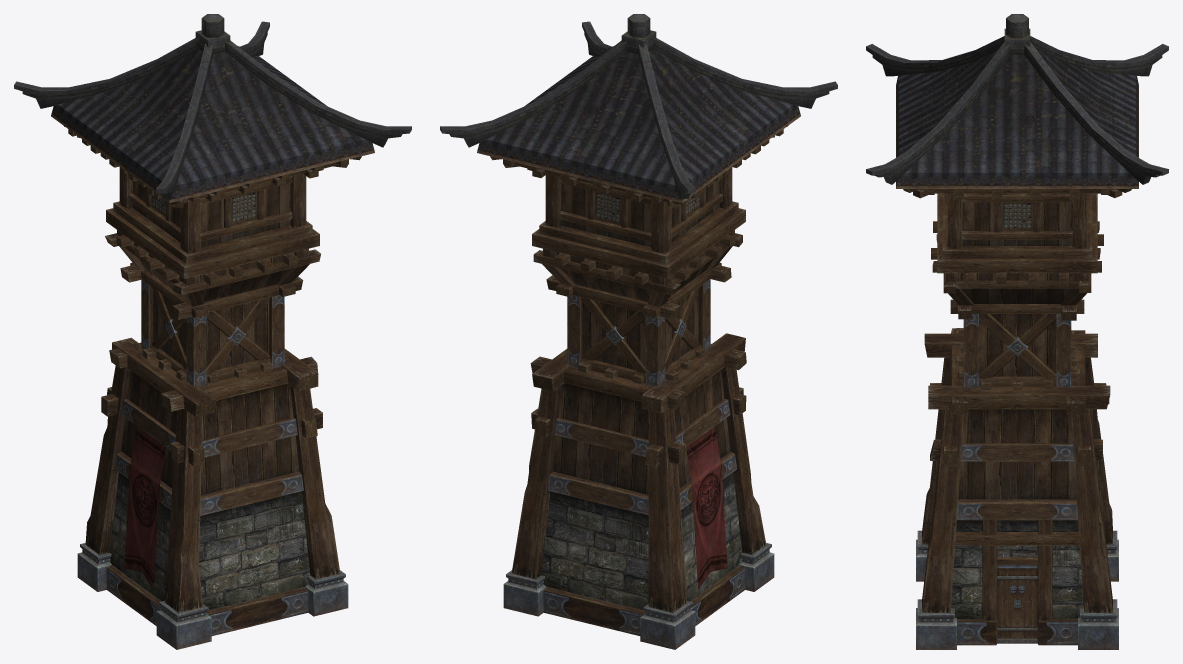
Rendered from JapaneseTower.FBX.
3 renders of one model, left to right at view 1: azimuth 30°, elevation 25°; view 2: azimuth 150°, elevation 25°; view 3: azimuth 270°, elevation 25°, orthographic. The views are drawn at different scales.
Parts seen in each view (by area): view 1: cadnav.com; view 2: cadnav.com; view 3: cadnav.com.
Boxes of the visible parts, <box> form: cadnav.com: <box>14,14,411,649</box>; cadnav.com: <box>440,14,837,649</box>; cadnav.com: <box>866,14,1168,649</box>.
Bounding box in the file's own units: 1742 × 3756 × 1742.
